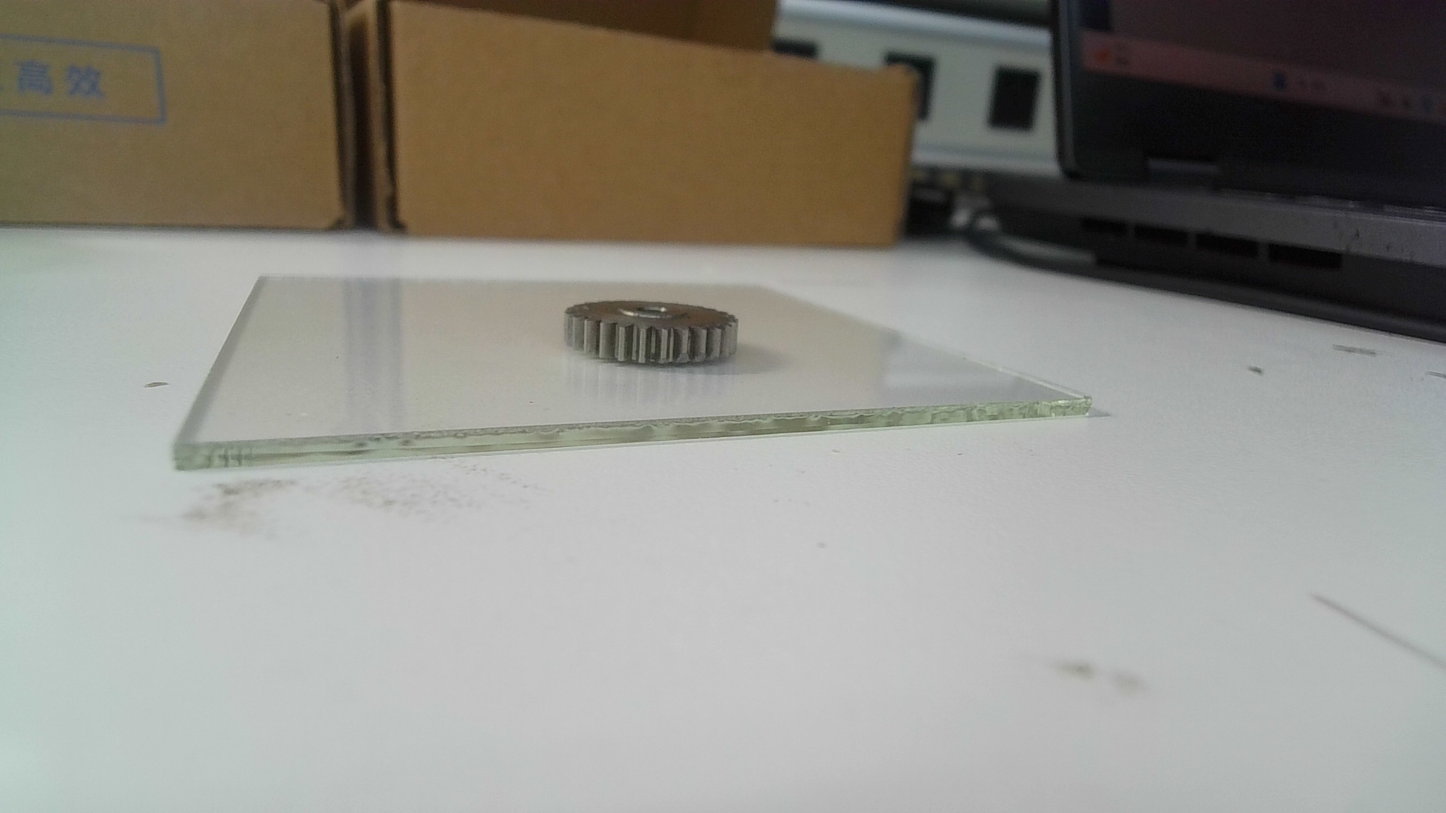gear: (559, 296, 744, 370)
